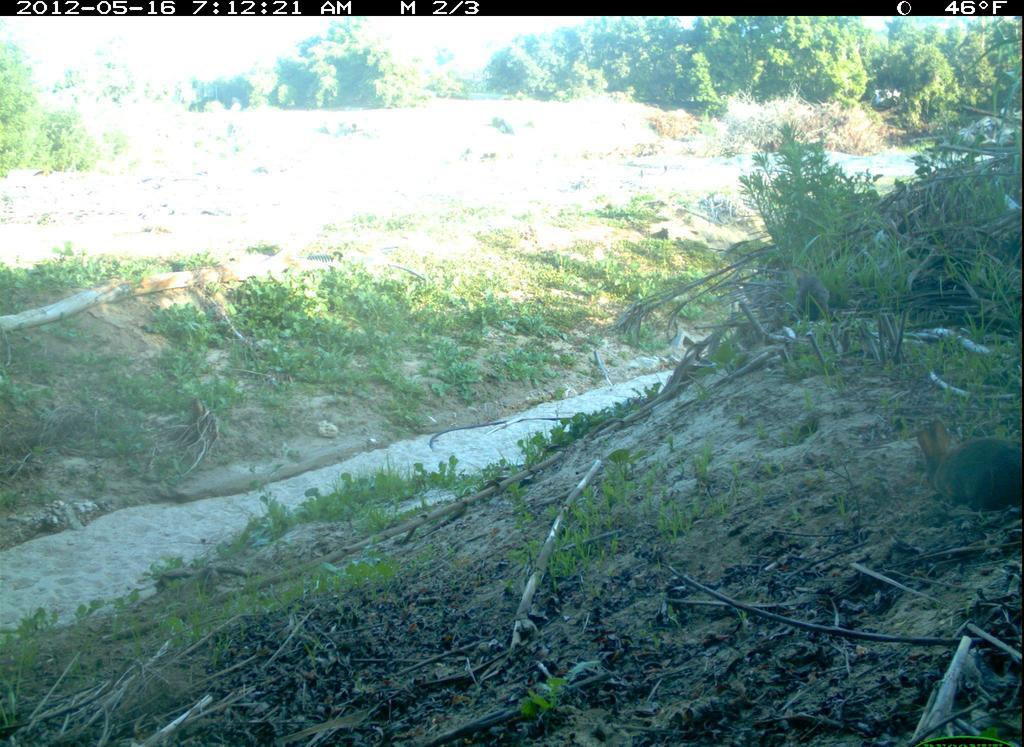rabbit: (909, 415, 1023, 519)
